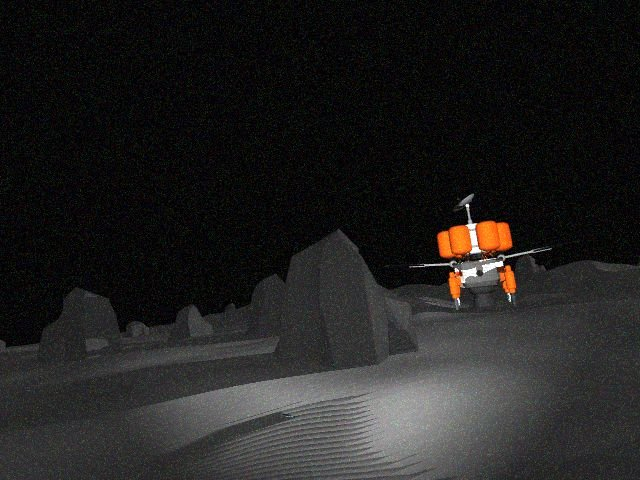homebase: (385, 191, 555, 314)
